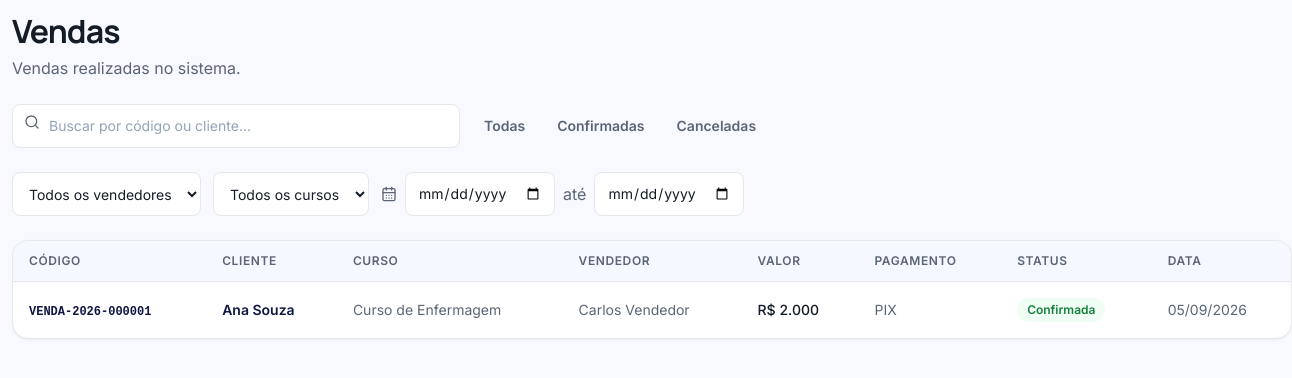
Scenario: SalesPage — persistência de filtros na URL (Fase 7) › limpar filtro de busca remove o parâmetro da URL
This screenshot has width=1292, height=378.
Type "Ana" into the field with placeholder "Buscar por código ou cliente..." at (236, 126), box [12,104,460,148]
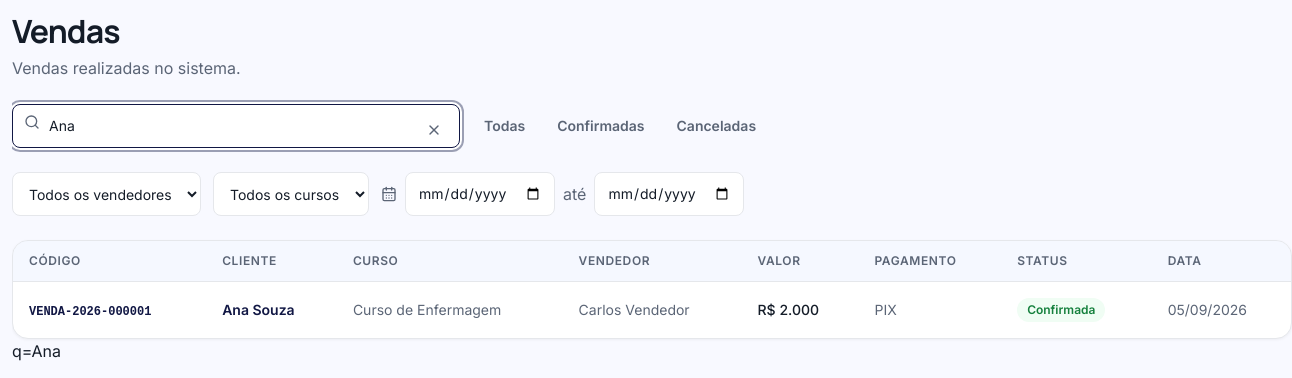
Result: the text with test id "location-search" reads "q=Ana" at [12,341,61,361]
Click the button named "Limpar busca" at (434, 130), box [412,108,456,152]
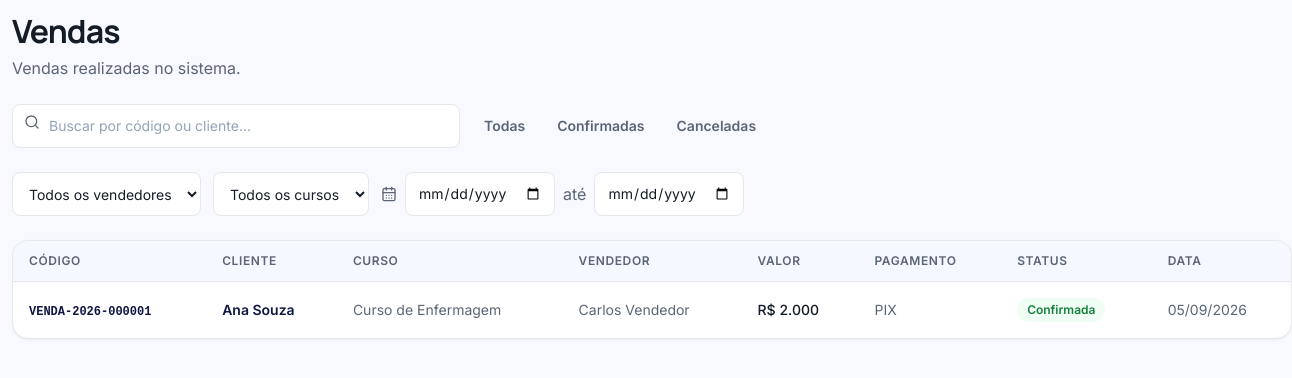
Result: the text with test id "location-search" no longer shows "q="
